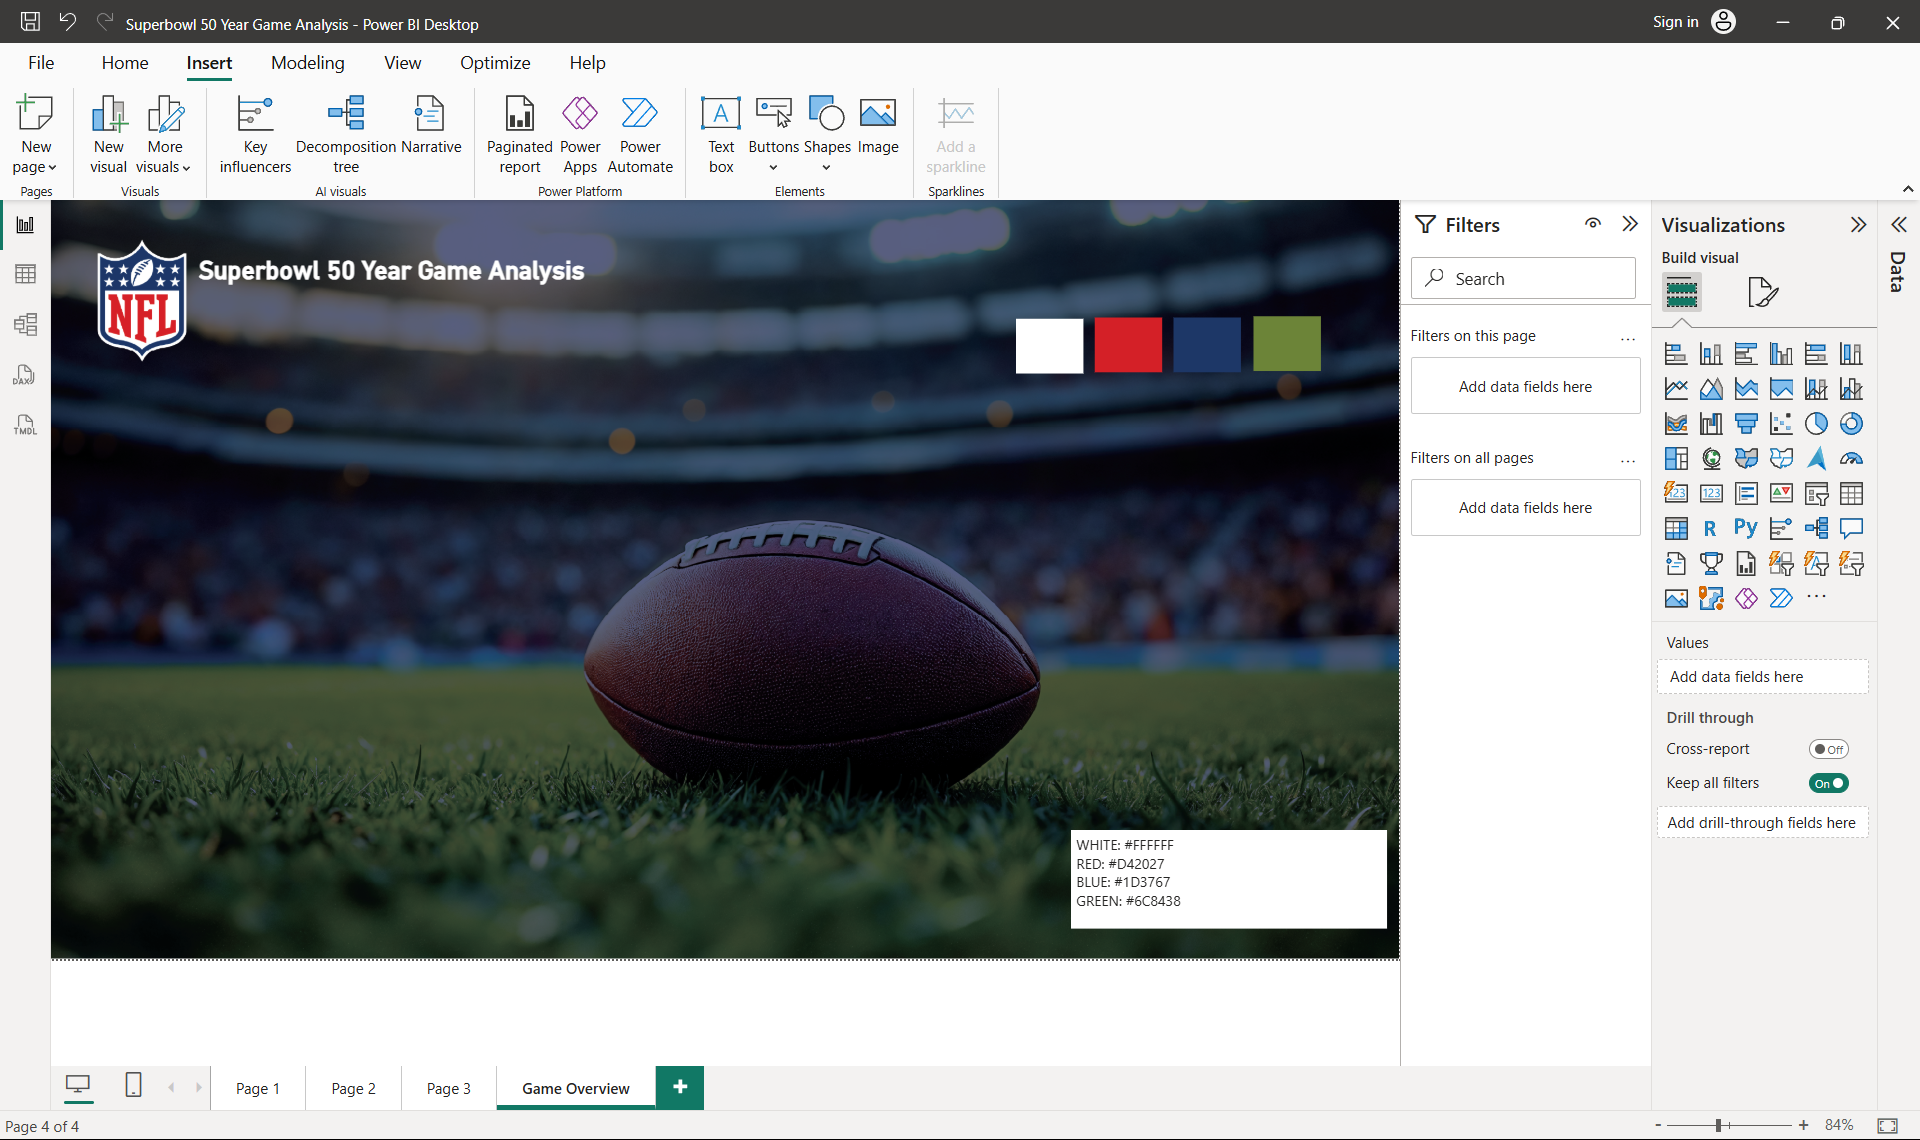

This screenshot's page, from the dashboard's own definition file:
{"tool":"powerbi","page":{"name":"Game Overview","canvas":[1280,720],"ordinal":0},"visuals":[{"type":"image","box":[0,0,1280.2,720.6],"z":0},{"type":"textbox","box":[135.3,47.5,430.7,41.5],"z":1000},{"type":"shape","box":[34,272.9,196.8,421.7],"z":2000},{"type":"shape","box":[34,164,130,58.6],"z":3000},{"type":"slicer","fields":{"Values":["super_bowls_final.date.Variation.Date Hierarchy.Year"]},"box":[1165.4,19.9,103.1,36.3],"z":4000},{"type":"card","fields":{"Values":["Sum(super_bowls_final.combined_pts)"]},"box":[39.8,162.8,118.3,58.6],"z":5000},{"type":"shape","box":[178,162.8,236.6,58.6],"z":6000},{"type":"card","fields":{"Values":["Measures_Table.Total Super Bowl Viewership"]},"box":[178,161.6,97.2,58.6],"z":7000},{"type":"card","fields":{"Values":["Measures_Table.Total In-Stadium Attendance"]},"box":[290.5,162.8,124.2,59.7],"z":8000},{"type":"shape","box":[424,162.8,104.2,58.6],"z":9000},{"type":"shape","box":[241.3,272.9,265.9,201.5],"z":10000},{"type":"card","fields":{"Values":["Min(tv_final_fixed.network)"]},"box":[433.4,162.8,85.5,58.6],"z":11000},{"type":"shape","box":[541.1,162.8,302.2,58.6],"z":12000},{"type":"card","fields":{"Values":["Measures_Table.MVP (Selected Year)"]},"box":[534.4,163.3,191.1,56.7],"z":13000},{"type":"card","fields":{"Values":["Sum(super_bowls_final.difference_pts)"]},"box":[720.4,161.6,123,59.7],"z":14000},{"type":"textbox","box":[137.5,76.4,491.4,42.3],"z":15000},{"type":"card","fields":{"Values":["Measures_Table.Top Performing Team"]},"box":[43.3,283.5,178,96],"z":16000},{"type":"card","fields":{"Values":["Min(super_bowls_final.coach_winner)"]},"box":[43.3,442.8,178,80.8],"z":17000},{"type":"card","fields":{"Values":["Min(super_bowls_final.qb_winner_1)"]},"box":[43.3,370.1,178,75],"z":18000},{"type":"card","fields":{"Values":["Sum(super_bowls_final.winning_pts)"]},"box":[43.3,515.4,178,78.5],"z":19000},{"type":"columnChart","fields":{"Category":["Rolling Year Offset.Offset"],"Y":["Measures_Table.Winning Points (Rolling 5 Columns)"]},"box":[43.3,584.5,178,98.4],"z":20000},{"type":"shape","box":[518.9,272.9,196.8,421.7],"z":21000},{"type":"card","fields":{"Values":["Min(super_bowls_final.team_loser)"]},"box":[528.3,283.5,175.7,82],"z":22000},{"type":"card","fields":{"Values":["Min(super_bowls_final.qb_loser_1)"]},"box":[528.3,359.6,175.7,83.2],"z":23000},{"type":"card","fields":{"Values":["Min(super_bowls_final.coach_loser)"]},"box":[528.3,432.2,175.7,83.2],"z":24000},{"type":"card","fields":{"Values":["Sum(super_bowls_final.losing_pts)"]},"box":[528.3,514.2,175.7,73.8],"z":25000},{"type":"columnChart","fields":{"Category":["Rolling Year Offset.Offset"],"Y":["Measures_Table.Losing Points (Rolling 5 Columns)"]},"box":[528.3,584.5,175.7,98.4],"z":26000},{"type":"barChart","title":"Top 5 Teams","fields":{"Y":["CountNonNull(superbowl_final_dates_fixed.Winner Pts)"],"Category":["superbowl_final_dates_fixed.Winner"]},"box":[251.8,283.5,244.8,179.2],"z":27000},{"type":"shape","box":[241.3,483.7,265.9,212],"z":28000},{"type":"shape","box":[725,274.1,543.5,421.7],"z":29000},{"type":"barChart","title":"Bottom 5 Teams","fields":{"Y":["CountNonNull(superbowl_final_dates_fixed.Loser Pts)"],"Category":["superbowl_final_dates_fixed.Winner"]},"box":[251.8,495.5,244.8,181.6],"z":30000},{"type":"donutChart","title":"Viewership vs Rating","fields":{"Y":["Sum(tv_final_fixed.rating_household)","Sum(tv_final_fixed.share_household)","Sum(tv_final_fixed.share_18_49)"]},"box":[737.1,283.3,230.4,147],"z":31000},{"type":"donutChart","title":"Rating vs Sharing","fields":{"Y":["Sum(tv_final_fixed.rating_18_49)","Sum(tv_final_fixed.share_18_49)"]},"box":[1028.7,289.2,229.2,141.1],"z":32000},{"type":"shape","box":[920,71.2,348.8,151.2],"z":33000},{"type":"filledMap","fields":{"Category":["super_bowls_final.city"]},"box":[925.6,75.6,338.9,141.1],"z":34000},{"type":"areaChart","title":"Point Distribution by State","fields":{"Category":["superbowl_final_dates_fixed.State Abbrev"],"Y":["CountNonNull(superbowl_final_dates_fixed.Stadium)","Sum(superbowl_final_dates_fixed.Loser Pts)","Sum(superbowl_final_dates_fixed.Winner Pts)"]},"box":[737.1,443.2,520.8,239.8],"z":35000},{"type":"textbox","box":[958.1,432.6,288,83.5],"z":36000},{"type":"textbox","box":[1165,0,103.5,37.6],"z":37000}]}

Visuals, with their boxes on the page's 1280x720 design canvas (x1, y1, x2, y2). These are canvas units, not pixel positions in the 1920x1140 screenshot, which may show the page scaled, cropped or inside an application window:
image: left=0, top=0, right=1280, bottom=721
textbox: left=135, top=48, right=566, bottom=89
shape: left=34, top=273, right=231, bottom=695
shape: left=34, top=164, right=164, bottom=223
slicer - super_bowls_final.date.Variation.Date Hierarchy.Year: left=1165, top=20, right=1268, bottom=56
card - Sum(super_bowls_final.combined_pts): left=40, top=163, right=158, bottom=221
shape: left=178, top=163, right=415, bottom=221
card - Measures_Table.Total Super Bowl Viewership: left=178, top=162, right=275, bottom=220
card - Measures_Table.Total In-Stadium Attendance: left=290, top=163, right=415, bottom=222
shape: left=424, top=163, right=528, bottom=221
shape: left=241, top=273, right=507, bottom=474
card - Min(tv_final_fixed.network): left=433, top=163, right=519, bottom=221
shape: left=541, top=163, right=843, bottom=221
card - Measures_Table.MVP (Selected Year): left=534, top=163, right=726, bottom=220
card - Sum(super_bowls_final.difference_pts): left=720, top=162, right=843, bottom=221
textbox: left=138, top=76, right=629, bottom=119
card - Measures_Table.Top Performing Team: left=43, top=284, right=221, bottom=380
card - Min(super_bowls_final.coach_winner): left=43, top=443, right=221, bottom=524
card - Min(super_bowls_final.qb_winner_1): left=43, top=370, right=221, bottom=445
card - Sum(super_bowls_final.winning_pts): left=43, top=515, right=221, bottom=594
columnChart - Rolling Year Offset.Offset x Measures_Table.Winning Points (Rolling 5 Columns): left=43, top=584, right=221, bottom=683
shape: left=519, top=273, right=716, bottom=695
card - Min(super_bowls_final.team_loser): left=528, top=284, right=704, bottom=366
card - Min(super_bowls_final.qb_loser_1): left=528, top=360, right=704, bottom=443
card - Min(super_bowls_final.coach_loser): left=528, top=432, right=704, bottom=515
card - Sum(super_bowls_final.losing_pts): left=528, top=514, right=704, bottom=588
columnChart - Rolling Year Offset.Offset x Measures_Table.Losing Points (Rolling 5 Columns): left=528, top=584, right=704, bottom=683
"Top 5 Teams" barChart: left=252, top=284, right=497, bottom=463
shape: left=241, top=484, right=507, bottom=696
shape: left=725, top=274, right=1268, bottom=696
"Bottom 5 Teams" barChart: left=252, top=496, right=497, bottom=677
"Viewership vs Rating" donutChart: left=737, top=283, right=968, bottom=430
"Rating vs Sharing" donutChart: left=1029, top=289, right=1258, bottom=430
shape: left=920, top=71, right=1269, bottom=222
filledMap - super_bowls_final.city: left=926, top=76, right=1264, bottom=217
"Point Distribution by State" areaChart: left=737, top=443, right=1258, bottom=683
textbox: left=958, top=433, right=1246, bottom=516
textbox: left=1165, top=0, right=1268, bottom=38
